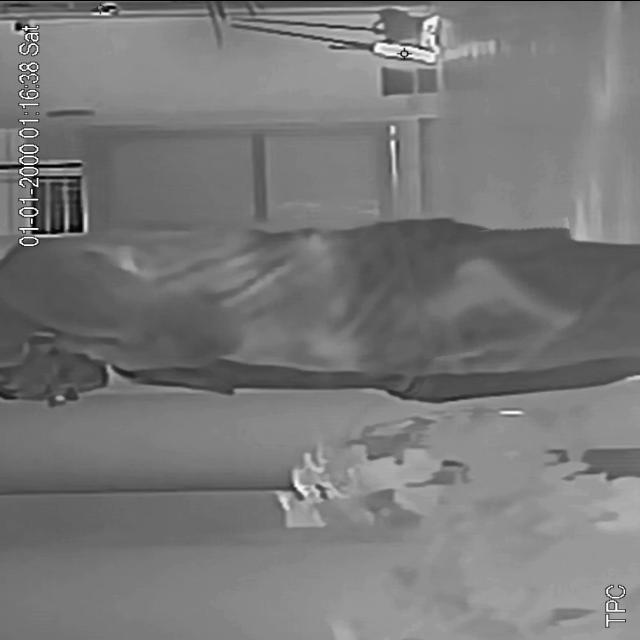Weapon: (410, 222, 582, 352)
